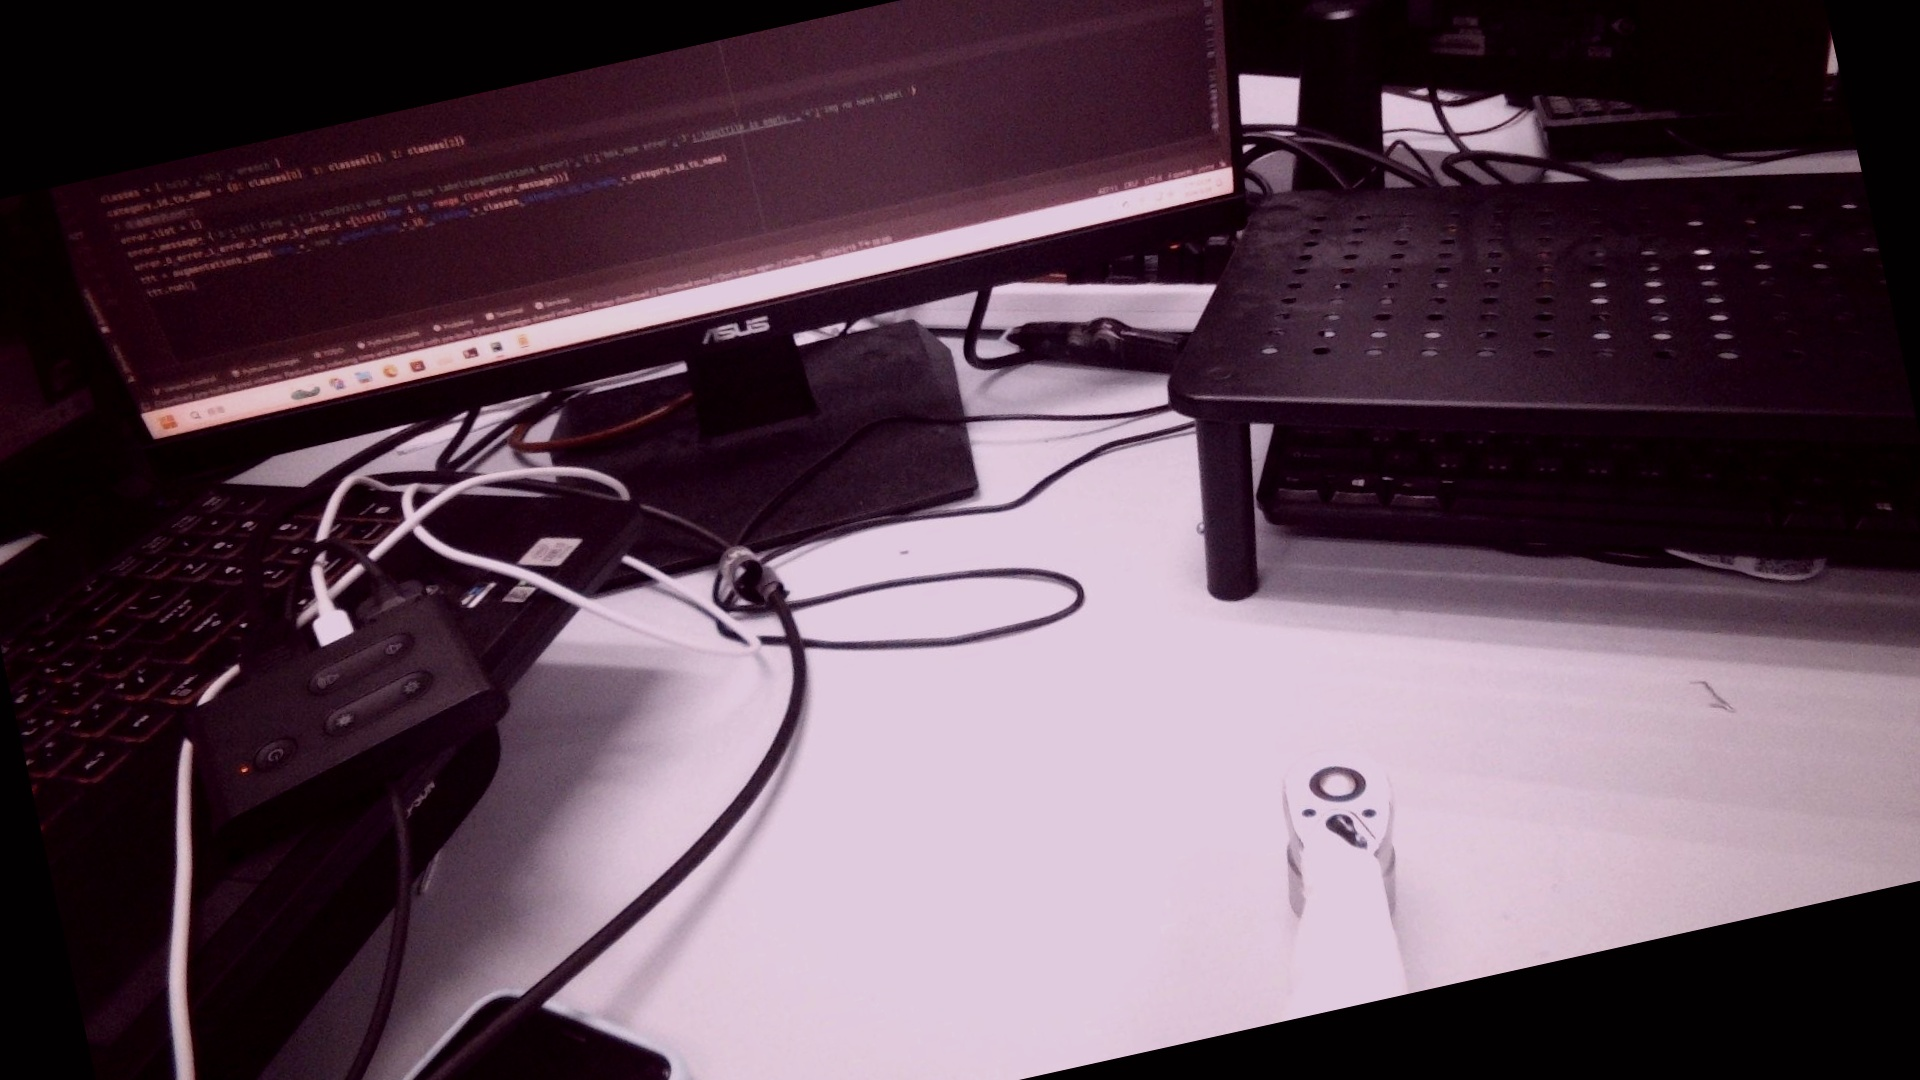wrench: (1300, 752, 1371, 810)
